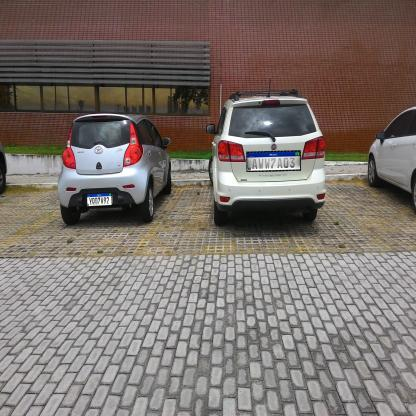PlacaM: (246, 150, 301, 172), (87, 192, 112, 207)
